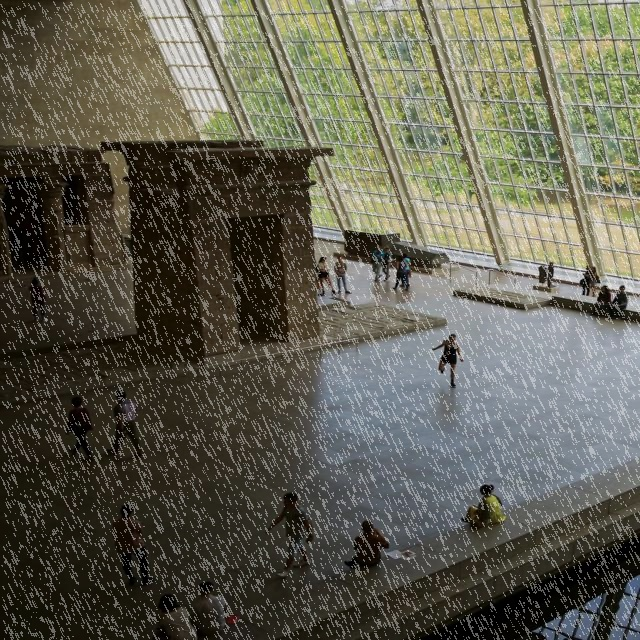pessoa: (263, 490, 316, 578), (110, 502, 156, 588), (103, 388, 145, 459), (342, 518, 390, 571), (188, 581, 229, 635), (460, 483, 507, 530), (152, 592, 198, 640), (64, 396, 96, 462), (429, 332, 464, 388), (26, 276, 48, 322), (604, 284, 630, 320), (316, 256, 339, 296), (332, 253, 352, 294), (391, 254, 412, 292), (589, 284, 612, 316), (368, 245, 384, 283), (379, 246, 394, 282), (578, 264, 592, 298), (399, 252, 412, 288), (589, 266, 601, 298), (314, 260, 322, 298), (545, 262, 556, 288)
